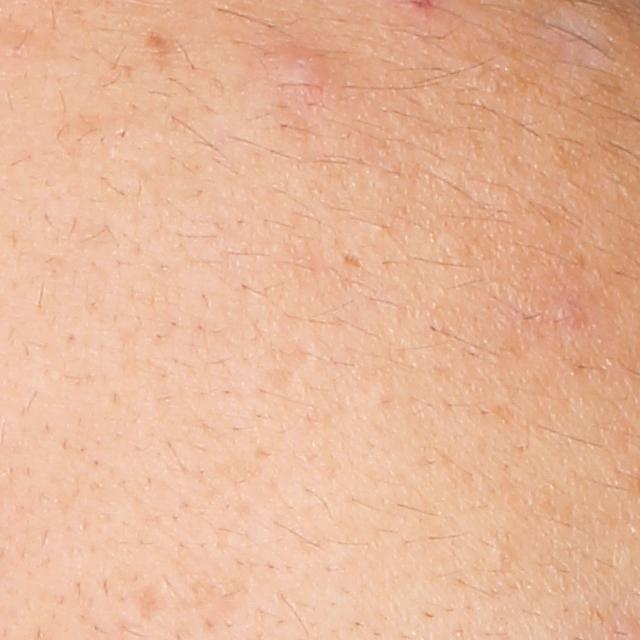atrophic_scar: (267, 332, 314, 390), (130, 581, 167, 625)
comedo: (485, 541, 511, 575)
papule: (280, 48, 330, 102)
